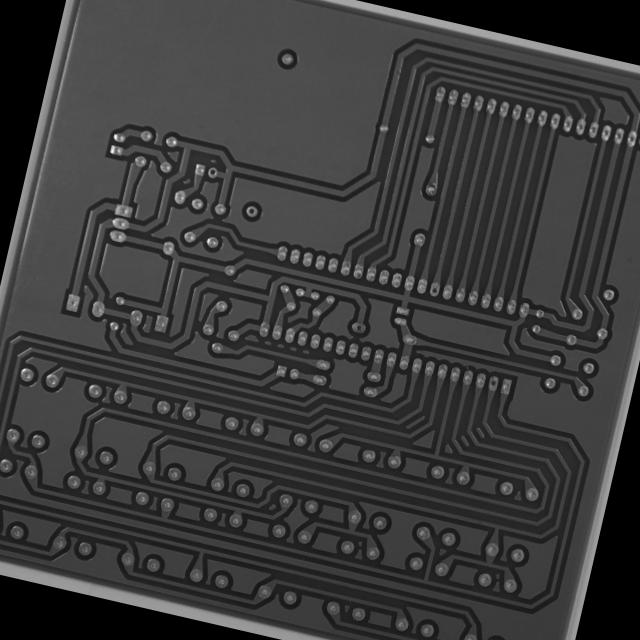missing_hole: (348, 319, 368, 337), (484, 374, 502, 394), (425, 282, 442, 299), (243, 204, 260, 221), (204, 165, 218, 179)
